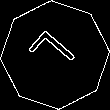L_SE: (26, 26, 84, 84)
